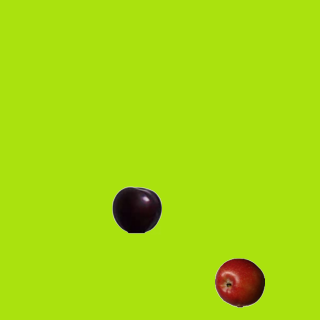Apple Braeburn: (214, 257, 264, 307)
Cherry Wax Black: (111, 184, 161, 234)
